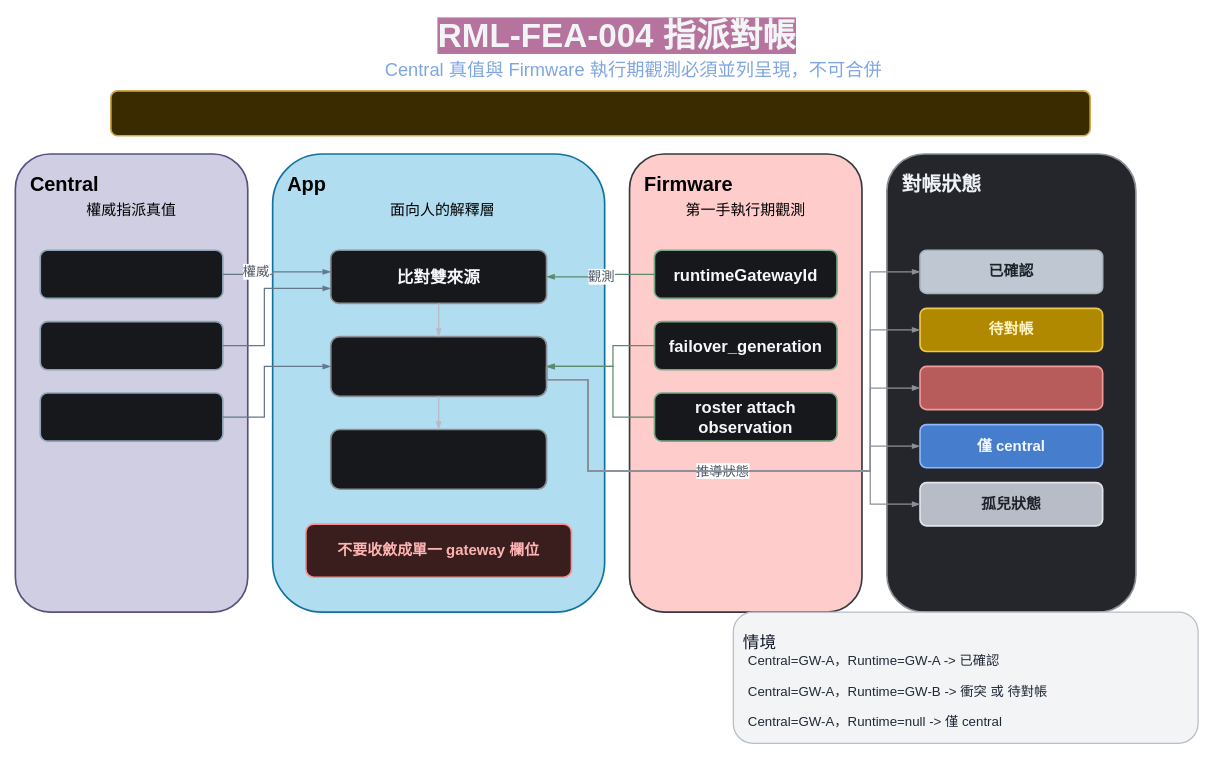
The diagram is 1213 pixels wide and 758 high, and some of its shapes have lost their labels. Each missing label, with the centre of its shape:
"active_gateway_id" goes at [131,274].
"assignment_state" goes at [131,345].
"assignment_version" goes at [131,417].
"Central 擁有指派真值。Firmware 擁有執行期 attach 觀測。App 負責解釋不一致。" goes at [600,113].
"推導 assignmentSyncState" goes at [438,366].
"衝突" goes at [1011,387].
"顯示雙 gateway 列 / 標記" goes at [438,459].
